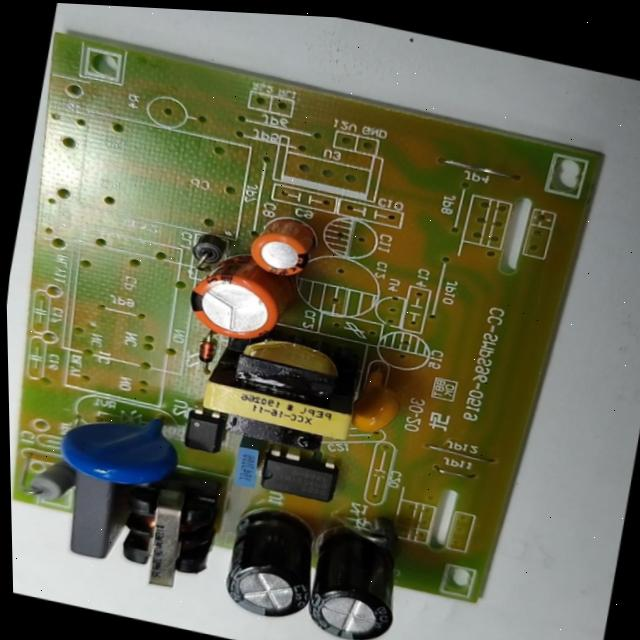Cap1: (182, 251, 286, 349)
Cap2: (245, 207, 315, 282)
Cap3: (217, 496, 325, 623)
Cap4: (300, 515, 407, 640)
MOSFET: (253, 444, 340, 506)
Mov: (53, 397, 189, 497)
Resistor: (20, 457, 73, 509)
Transformer: (193, 316, 371, 460), (109, 457, 230, 600)
